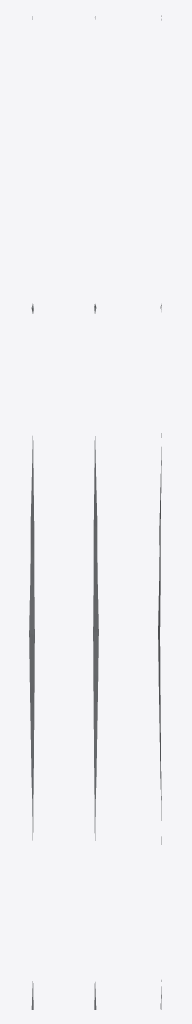
3 renders of one model, left to right at view 1: azimuth 30°, elevation 25°; view 2: azimuth 210°, elevation 25°; view 3: azimuth 330°, elevation 25°, orthographic.
Size of the model in its own units: 0.00491 by 1.19 by 0.00407.
Materials: 1 (1 with a texture image).
